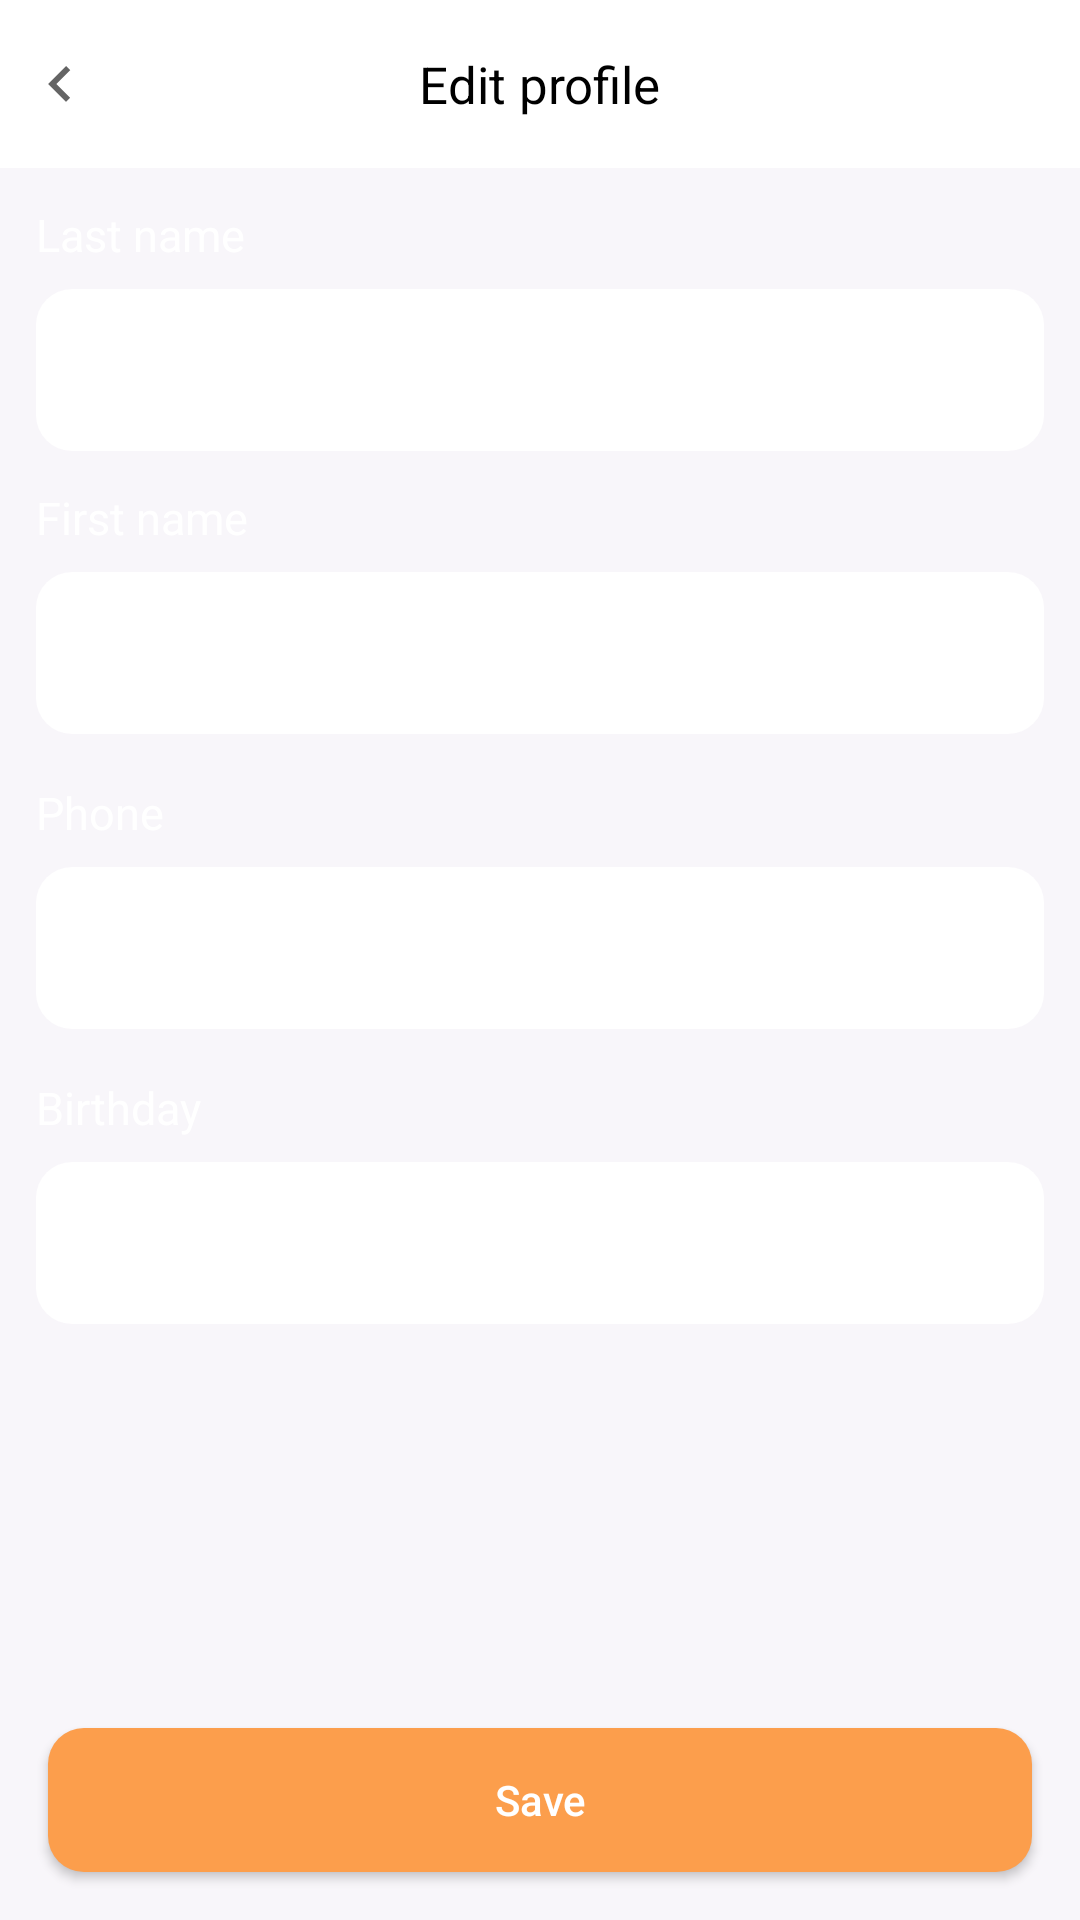

Locate icon controls on the screen. Image size 1080 x 1920, boxes as rect(x1, y1, x2, y2).
left: rect(48, 66, 70, 102)
